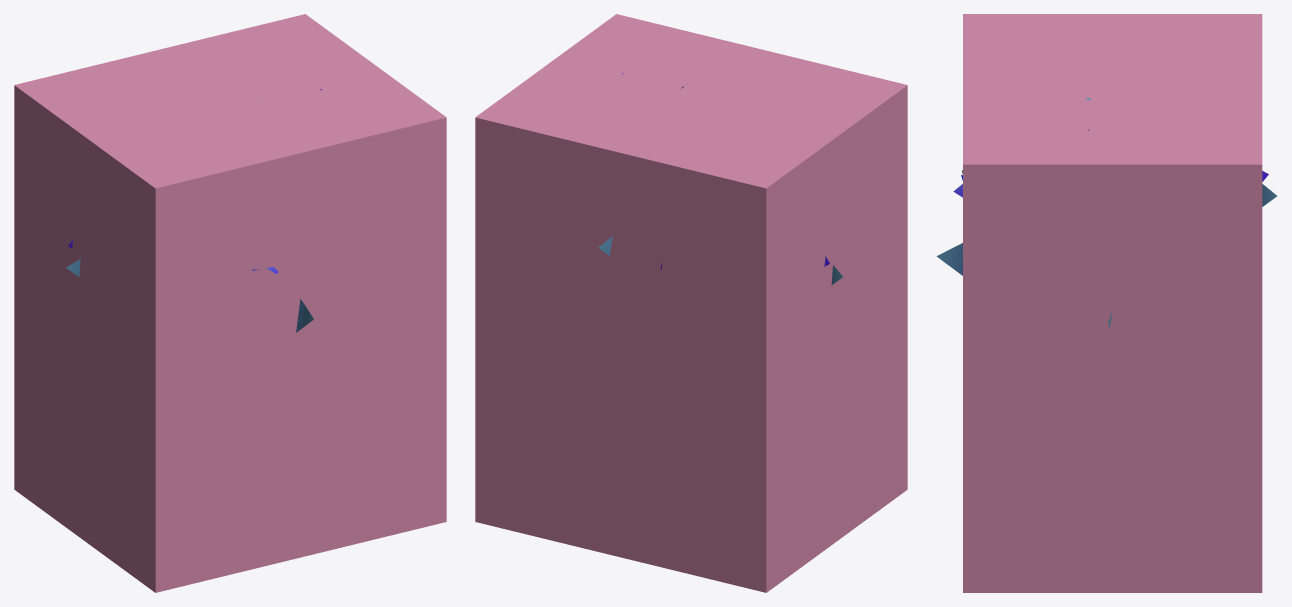
File: tree_aspen_overhang_a.dae
The picture shows the model from 3 angles, left to right: view 1: azimuth 30°, elevation 25°; view 2: azimuth 150°, elevation 25°; view 3: azimuth 270°, elevation 25°; orthographic projection. The views are drawn at different scales.
Parts seen in each view (by area): view 1: Untitled; view 2: Untitled; view 3: Untitled, tree_oak_bush_a180.
Boxes of the visible parts, x1,y1,x2,y2 form: Untitled: (14, 14, 446, 592); Untitled: (475, 14, 907, 592); Untitled: (963, 14, 1262, 592); tree_oak_bush_a180: (936, 97, 1277, 264).
Size of the model in its own units: 7.13 by 6.31 by 8.8.
